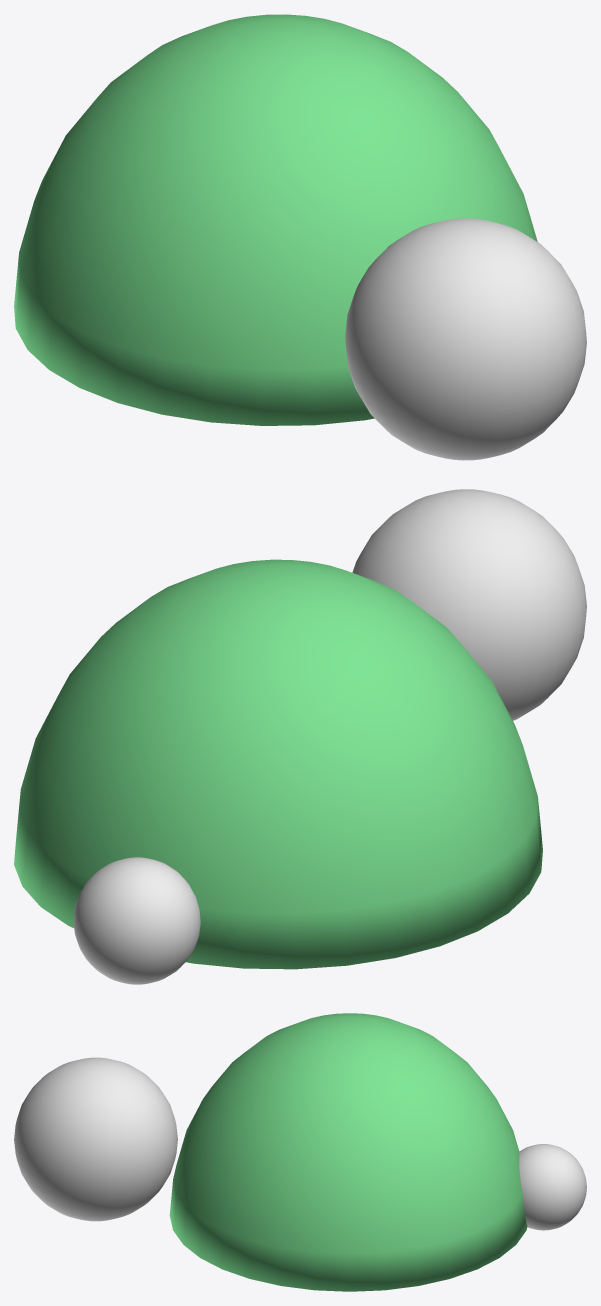
File: Turtle.fbx
The picture shows the model from 3 angles, top to bottom: view 1: azimuth 30°, elevation 25°; view 2: azimuth 150°, elevation 25°; view 3: azimuth 270°, elevation 25°; orthographic projection. The views are drawn at different scales.
Parts seen in each view (by area): view 1: Sphere.003; view 2: Sphere.003; view 3: Sphere.003.
Boxes of the visible parts, <box> form: Sphere.003: <box>14,14,586,460</box>; Sphere.003: <box>14,489,586,984</box>; Sphere.003: <box>14,1013,586,1291</box>.
Bounding box in the file's own units: 236 × 144 × 375.
